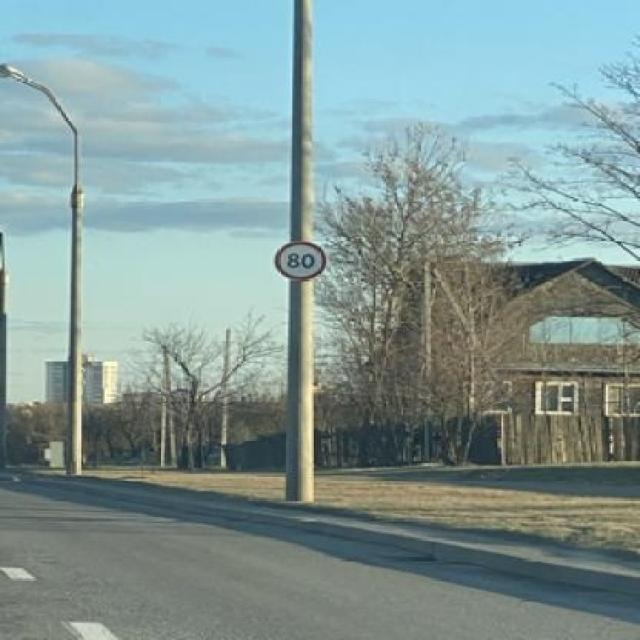forb_speed_over_80: (275, 240, 326, 280)
